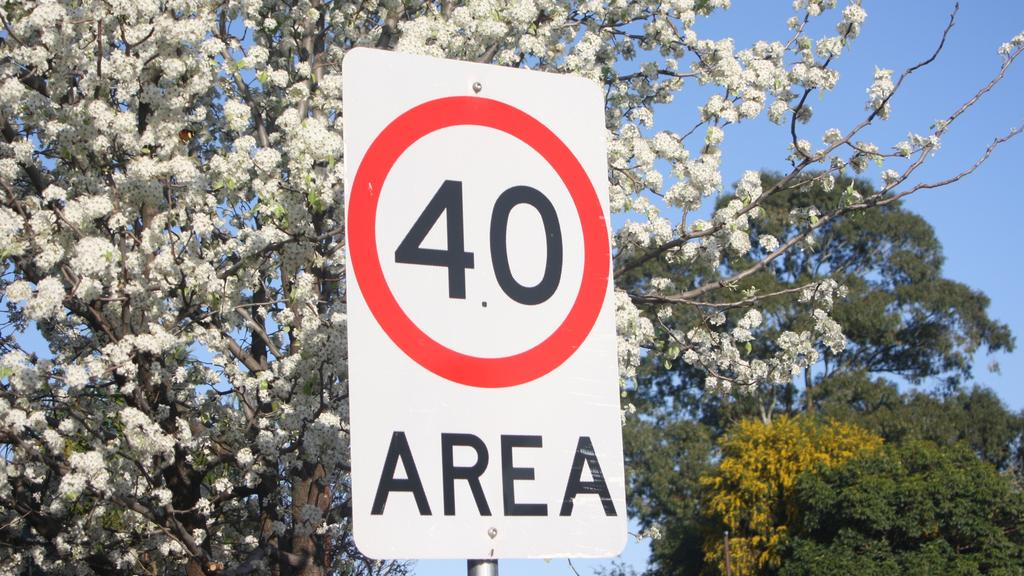40 Km/hr: (349, 96, 609, 387)
